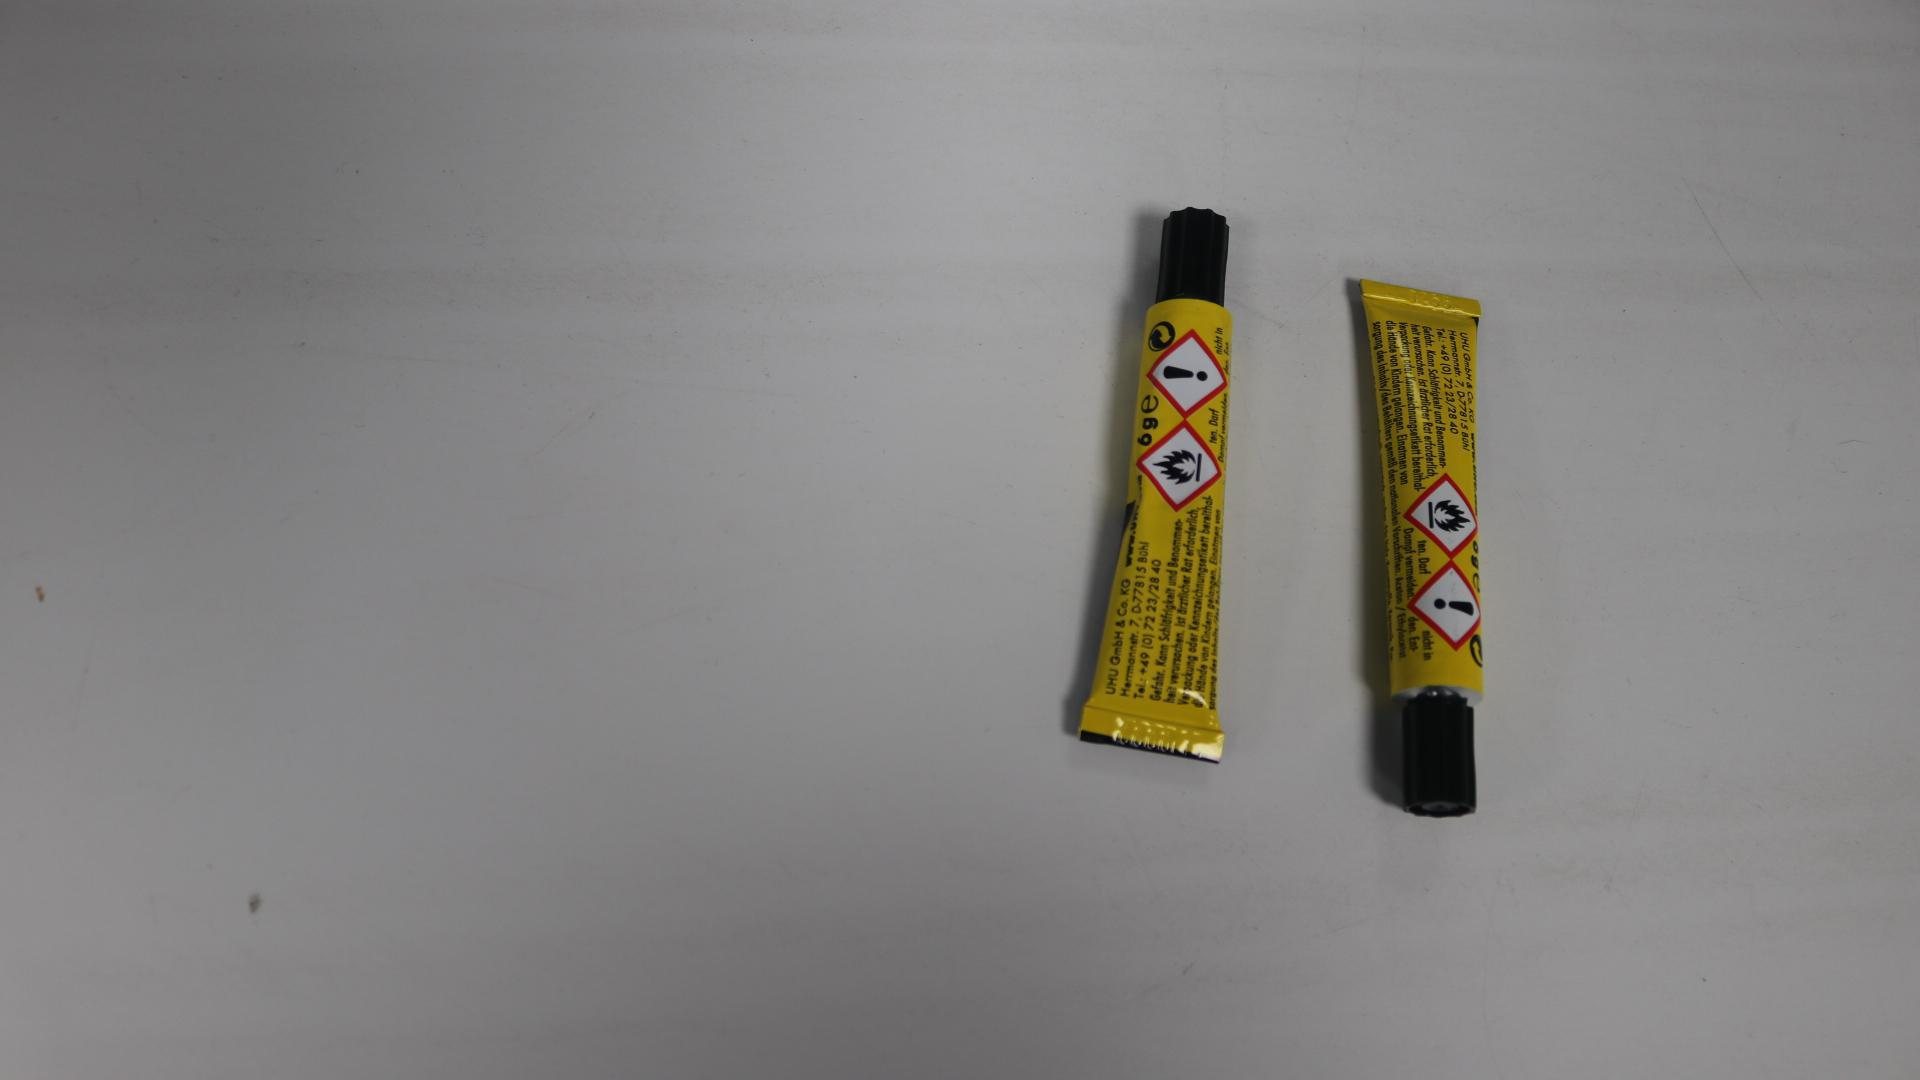Head: (1435, 745, 1447, 757), (1189, 253, 1201, 264)
Tail: (1144, 726, 1168, 747), (1419, 293, 1432, 306)
Tube: (1076, 207, 1233, 767), (1358, 277, 1485, 820)
